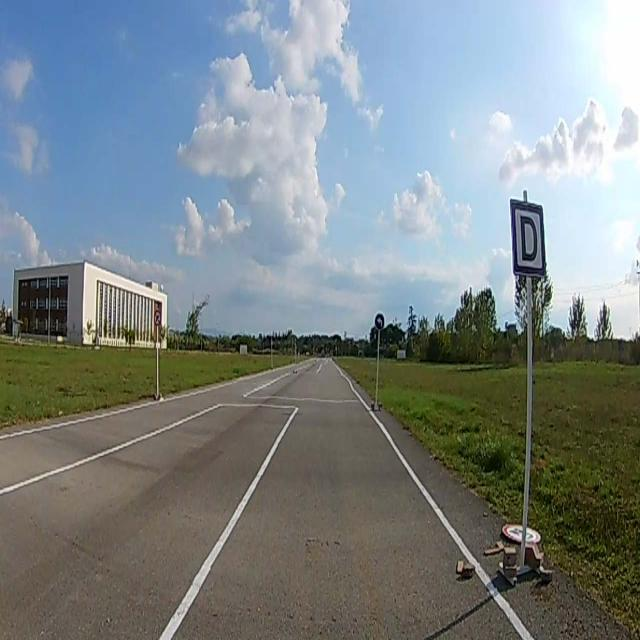durak: (512, 199, 546, 276)
